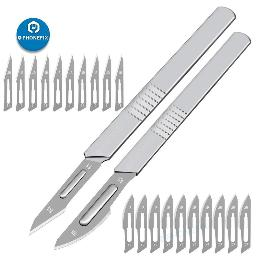scalpel: (28, 5, 244, 235), (54, 32, 252, 250)
